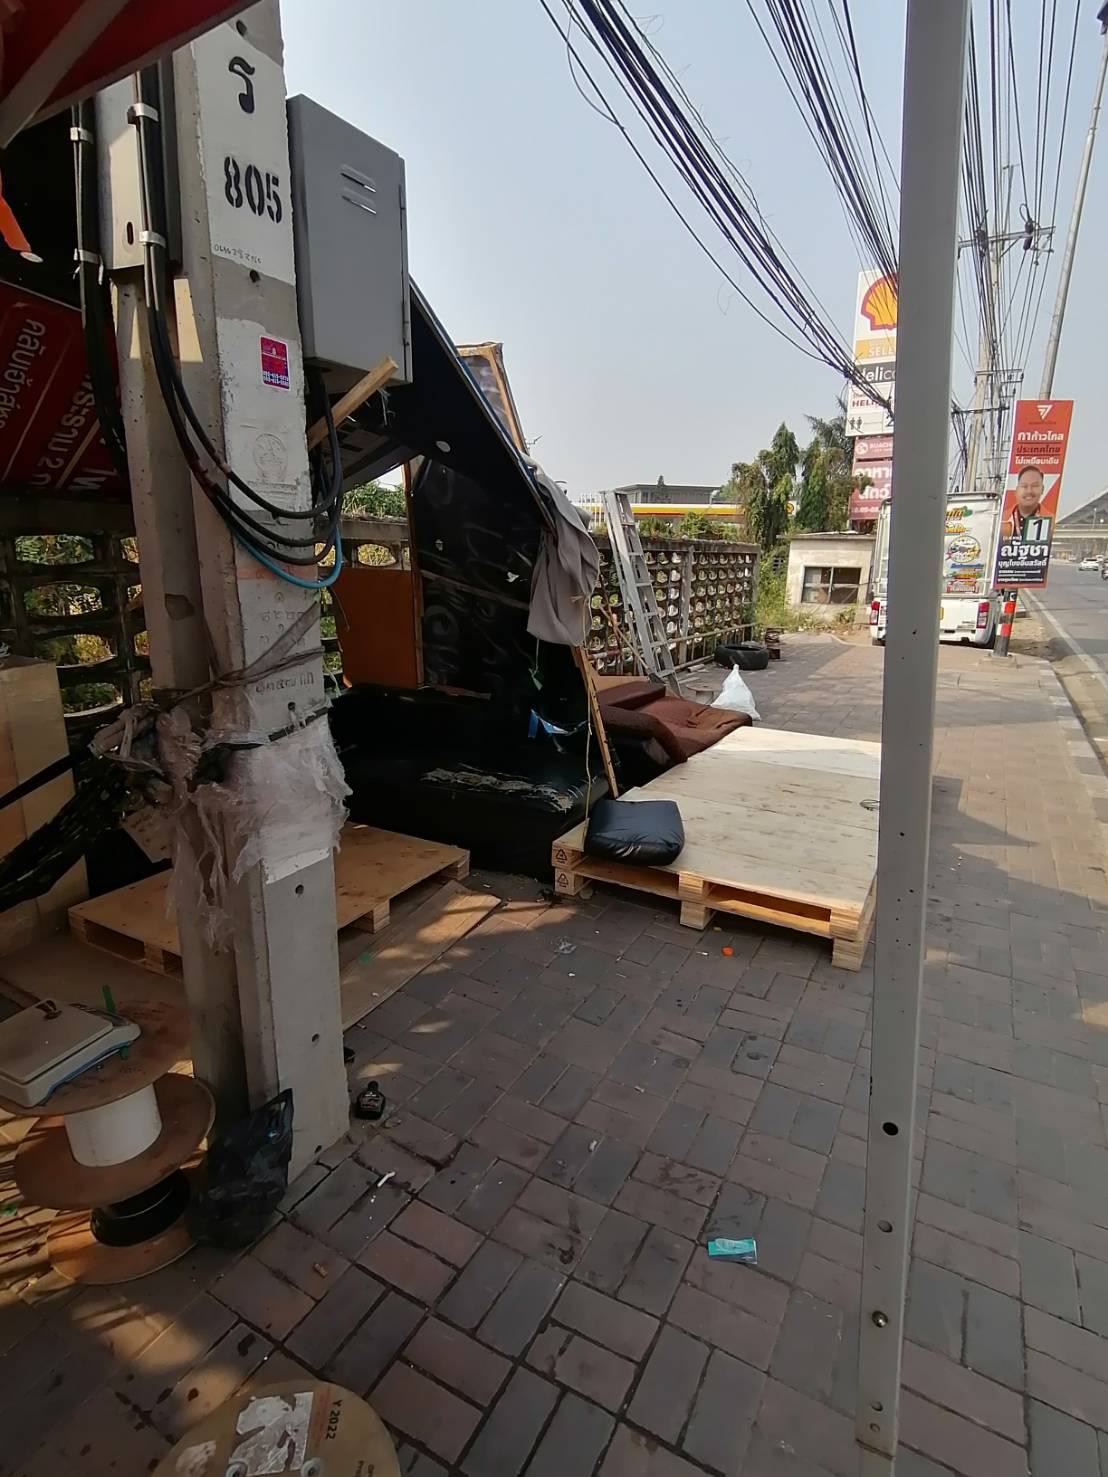Banner: (1008, 393, 1061, 592)
